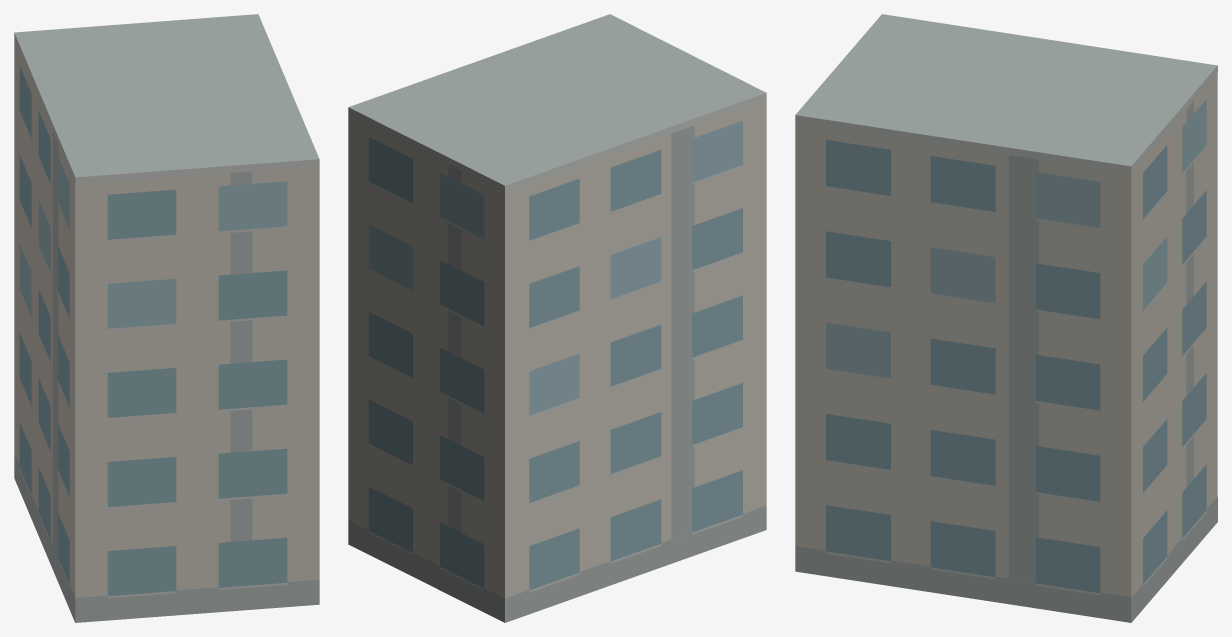
File: residential-f80c7bd8-ab2d-45c1-9cba-5cd1a48d5d36.glb
The picture shows the model from 3 angles, left to right: view 1: azimuth 30°, elevation 25°; view 2: azimuth 150°, elevation 25°; view 3: azimuth 270°, elevation 25°; orthographic projection. The views are drawn at different scales.
Parts seen in each view (by area): view 1: residential-f80c7bd8-ab2d-45c1-9cba-5cd1a48d5d36.tmp; view 2: residential-f80c7bd8-ab2d-45c1-9cba-5cd1a48d5d36.tmp; view 3: residential-f80c7bd8-ab2d-45c1-9cba-5cd1a48d5d36.tmp.
Boxes of the visible parts, <box> form: residential-f80c7bd8-ab2d-45c1-9cba-5cd1a48d5d36.tmp: <box>14,14,319,622</box>; residential-f80c7bd8-ab2d-45c1-9cba-5cd1a48d5d36.tmp: <box>348,14,766,622</box>; residential-f80c7bd8-ab2d-45c1-9cba-5cd1a48d5d36.tmp: <box>795,14,1217,622</box>.
Size of the model in its own units: 10.93 by 15.25 by 12.8.
